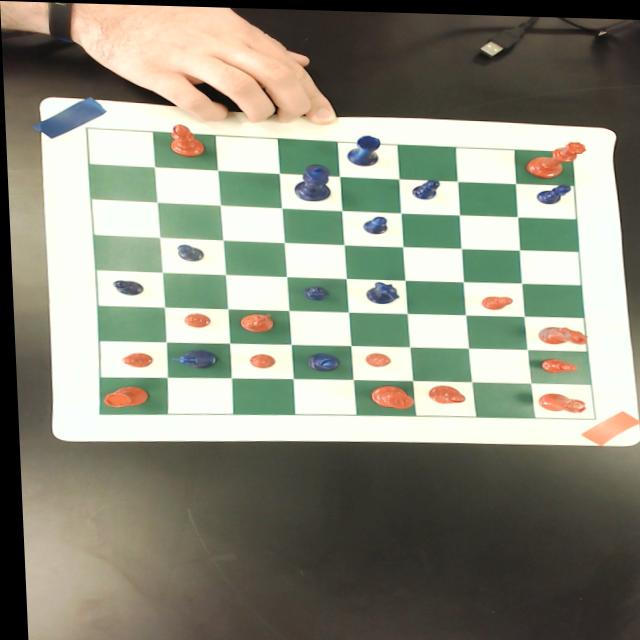B: (302, 348, 338, 371)
K: (288, 162, 331, 200)
N: (167, 347, 216, 368), (362, 277, 399, 302)
P: (533, 179, 570, 201), (410, 175, 440, 196), (173, 241, 203, 260), (360, 211, 387, 232), (111, 278, 141, 294), (301, 282, 327, 298)
R: (344, 131, 381, 164)
b: (166, 122, 204, 156), (424, 381, 463, 401)
k: (366, 382, 411, 406)
n: (536, 322, 587, 342), (237, 310, 273, 332)
p: (536, 354, 575, 369), (118, 350, 153, 366), (477, 292, 512, 307), (246, 351, 275, 366), (181, 311, 208, 327), (360, 350, 389, 364)
q: (523, 136, 587, 175)
r: (97, 383, 148, 407), (536, 388, 584, 409)
